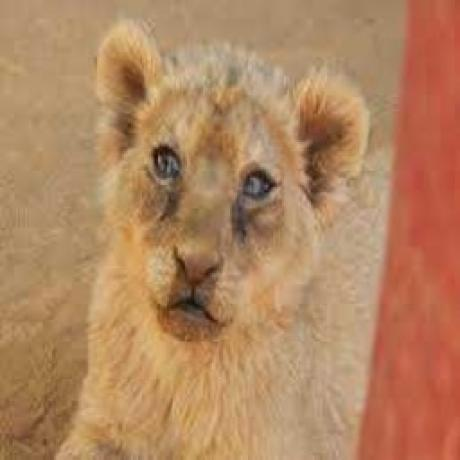Lion: (52, 12, 391, 460)
